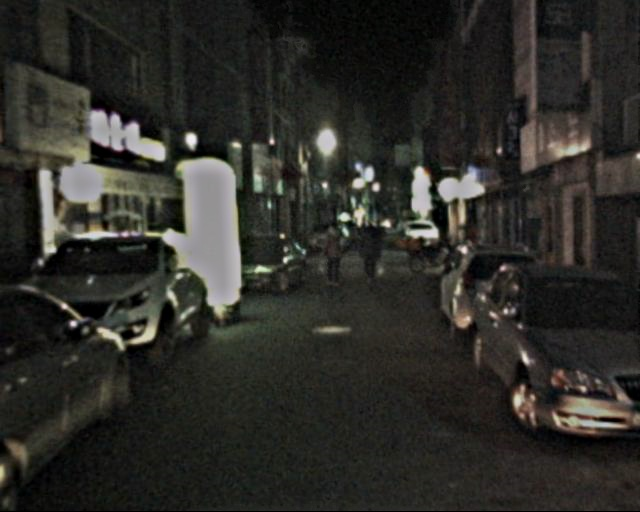person: (315, 218, 344, 289), (358, 220, 383, 282)
